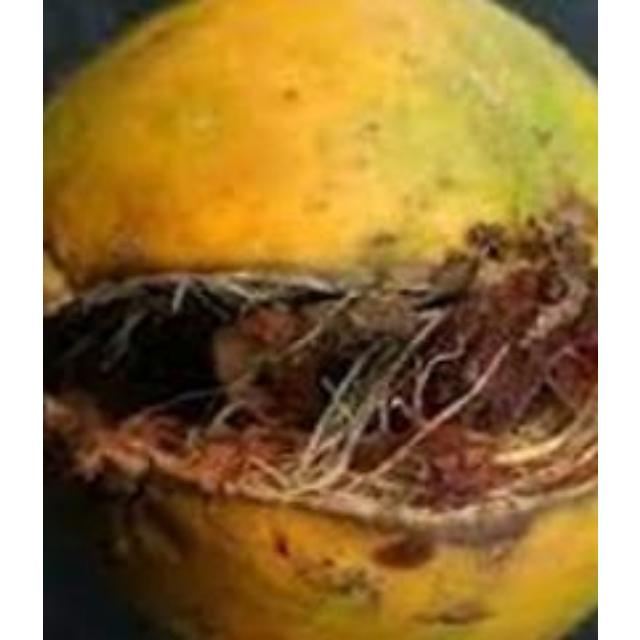damaged: (42, 0, 594, 637)
